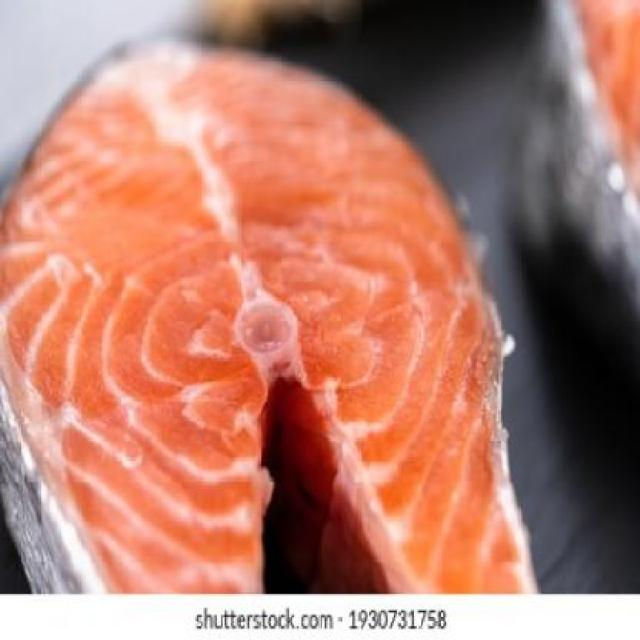salmon: (5, 32, 548, 595)
